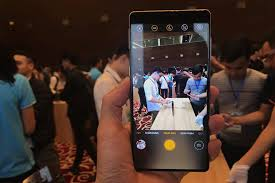bphone: (124, 6, 213, 174)
